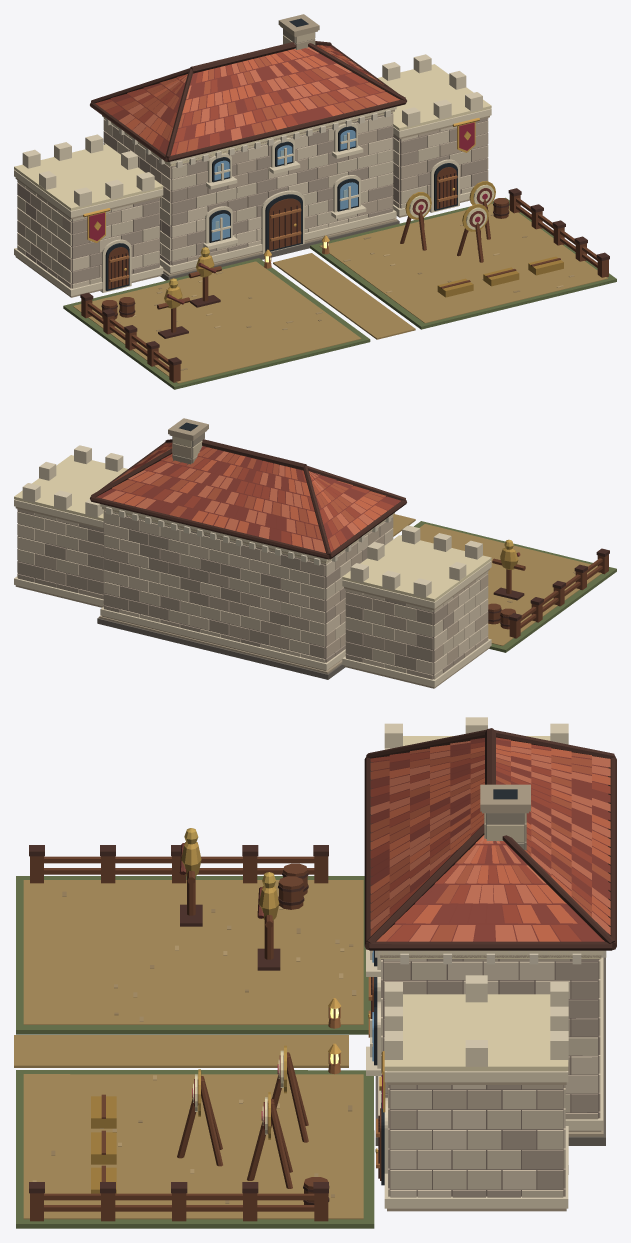
The model's file is barracks-nivel-5.glb.
3 views of the same model, one above another, from view 1: azimuth 30°, elevation 25°; view 2: azimuth 150°, elevation 25°; view 3: azimuth 270°, elevation 25° (orthographic). The views are drawn at different scales.
Parts seen in each view (by area): view 1: Fortim dos besteiros #ad8f5a, Fortim dos besteiros #e6d7ba, Fortim dos besteiros #ae9d8b, Fortim dos besteiros #eadbb2, Fortim dos besteiros #d3c3a9, Fortim dos besteiros #70432c, Fortim dos besteiros #dac9af, Fortim dos besteiros #4c3028, Fortim dos besteiros #c1af99, Fortim dos besteiros #853e33, Fortim dos besteiros #68744a, Fortim dos besteiros #a8563c (+15 smaller); view 2: Fortim dos besteiros #d3c3a9, Fortim dos besteiros #ae9d8b, Fortim dos besteiros #e6d7ba, Fortim dos besteiros #c1af99, Fortim dos besteiros #dac9af, Fortim dos besteiros #eadbb2, Fortim dos besteiros #853e33, Fortim dos besteiros #ad8f5a, Fortim dos besteiros #4c3028, Fortim dos besteiros #c06b4f, Fortim dos besteiros #a8563c, Fortim dos besteiros #b4a38a (+7 smaller); view 3: Fortim dos besteiros #ad8f5a, Fortim dos besteiros #70432c, Fortim dos besteiros #853e33, Fortim dos besteiros #e6d7ba, Fortim dos besteiros #68744a, Fortim dos besteiros #4c3028, Fortim dos besteiros #eadbb2, Fortim dos besteiros #d3c3a9, Fortim dos besteiros #c06b4f, Fortim dos besteiros #dac9af, Fortim dos besteiros #bf6243, Fortim dos besteiros #9b4735 (+11 smaller).
Boxes of the visible parts, x1=… form: Fortim dos besteiros #ad8f5a: x1=73, y1=203, x2=608, y2=383; Fortim dos besteiros #e6d7ba: x1=14, y1=54, x2=491, y2=296; Fortim dos besteiros #ae9d8b: x1=17, y1=112, x2=487, y2=283; Fortim dos besteiros #eadbb2: x1=14, y1=64, x2=494, y2=229; Fortim dos besteiros #d3c3a9: x1=17, y1=120, x2=488, y2=284; Fortim dos besteiros #70432c: x1=81, y1=167, x2=608, y2=382; Fortim dos besteiros #dac9af: x1=17, y1=112, x2=488, y2=288; Fortim dos besteiros #4c3028: x1=80, y1=41, x2=609, y2=365; Fortim dos besteiros #c1af99: x1=17, y1=113, x2=488, y2=288; Fortim dos besteiros #853e33: x1=99, y1=45, x2=388, y2=154; Fortim dos besteiros #68744a: x1=63, y1=197, x2=616, y2=389; Fortim dos besteiros #a8563c: x1=98, y1=48, x2=400, y2=154; Fortim dos besteiros #d3c3a9: x1=17, y1=511, x2=488, y2=679; Fortim dos besteiros #ae9d8b: x1=17, y1=510, x2=464, y2=673; Fortim dos besteiros #e6d7ba: x1=14, y1=445, x2=491, y2=687; Fortim dos besteiros #c1af99: x1=17, y1=509, x2=488, y2=679; Fortim dos besteiros #dac9af: x1=18, y1=509, x2=488, y2=674; Fortim dos besteiros #eadbb2: x1=14, y1=455, x2=491, y2=601; Fortim dos besteiros #853e33: x1=96, y1=444, x2=401, y2=550; Fortim dos besteiros #ad8f5a: x1=393, y1=514, x2=601, y2=645; Fortim dos besteiros #4c3028: x1=90, y1=439, x2=609, y2=626; Fortim dos besteiros #c06b4f: x1=102, y1=449, x2=373, y2=552; Fortim dos besteiros #a8563c: x1=112, y1=443, x2=385, y2=549; Fortim dos besteiros #b4a38a: x1=15, y1=418, x2=489, y2=688; Fortim dos besteiros #ad8f5a: x1=14, y1=880, x2=363, y2=1219; Fortim dos besteiros #70432c: x1=30, y1=856, x2=381, y2=1221; Fortim dos besteiros #853e33: x1=370, y1=738, x2=610, y2=941; Fortim dos besteiros #e6d7ba: x1=366, y1=717, x2=603, y2=1208; Fortim dos besteiros #68744a: x1=16, y1=876, x2=374, y2=1228; Fortim dos besteiros #4c3028: x1=29, y1=728, x2=616, y2=1204; Fortim dos besteiros #eadbb2: x1=193, y1=736, x2=602, y2=1134; Fortim dos besteiros #d3c3a9: x1=381, y1=960, x2=600, y2=1197; Fortim dos besteiros #c06b4f: x1=370, y1=740, x2=610, y2=941; Fortim dos besteiros #dac9af: x1=381, y1=959, x2=600, y2=1197; Fortim dos besteiros #bf6243: x1=370, y1=740, x2=610, y2=941; Fortim dos besteiros #9b4735: x1=370, y1=737, x2=610, y2=941.
Size of the model in its own units: 13.45 by 5.49 by 9.85.
